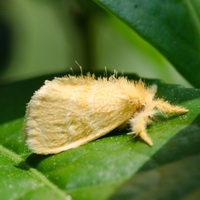insect: (24, 73, 187, 154)
